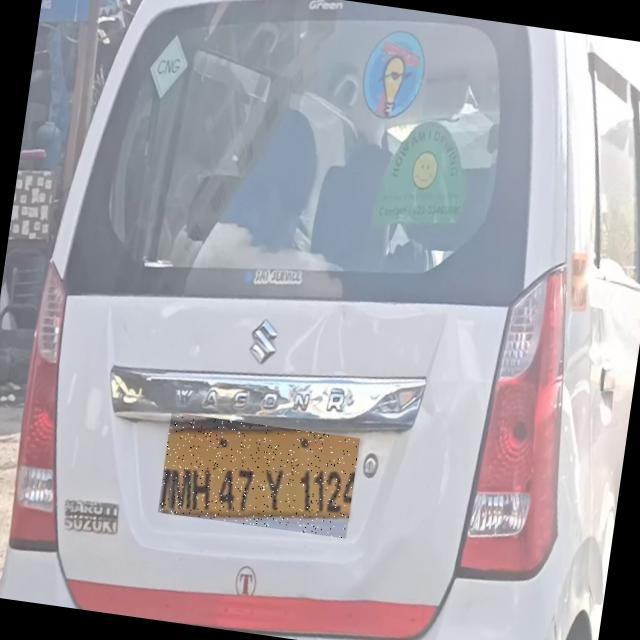Plate: (159, 414, 361, 540)
